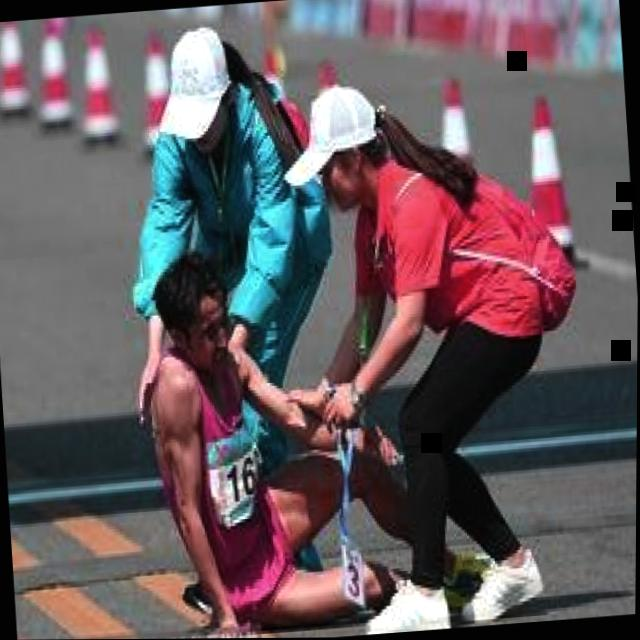Fall-Detected: (122, 201, 512, 639)
